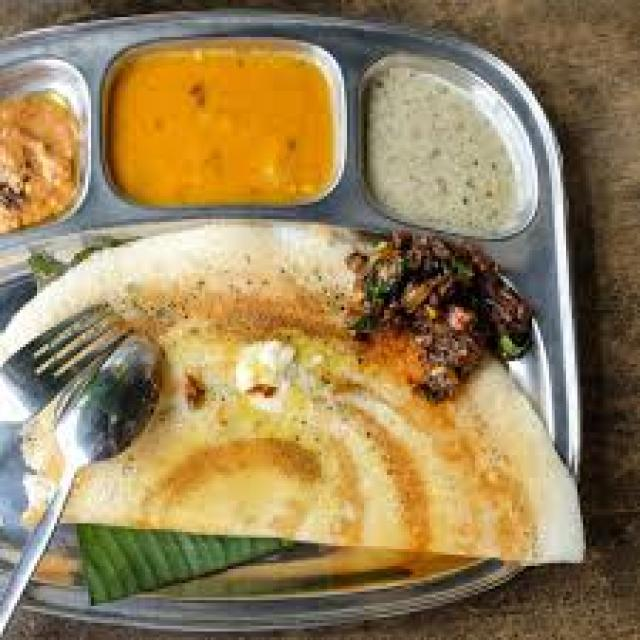DOSA: (2, 209, 584, 562)
